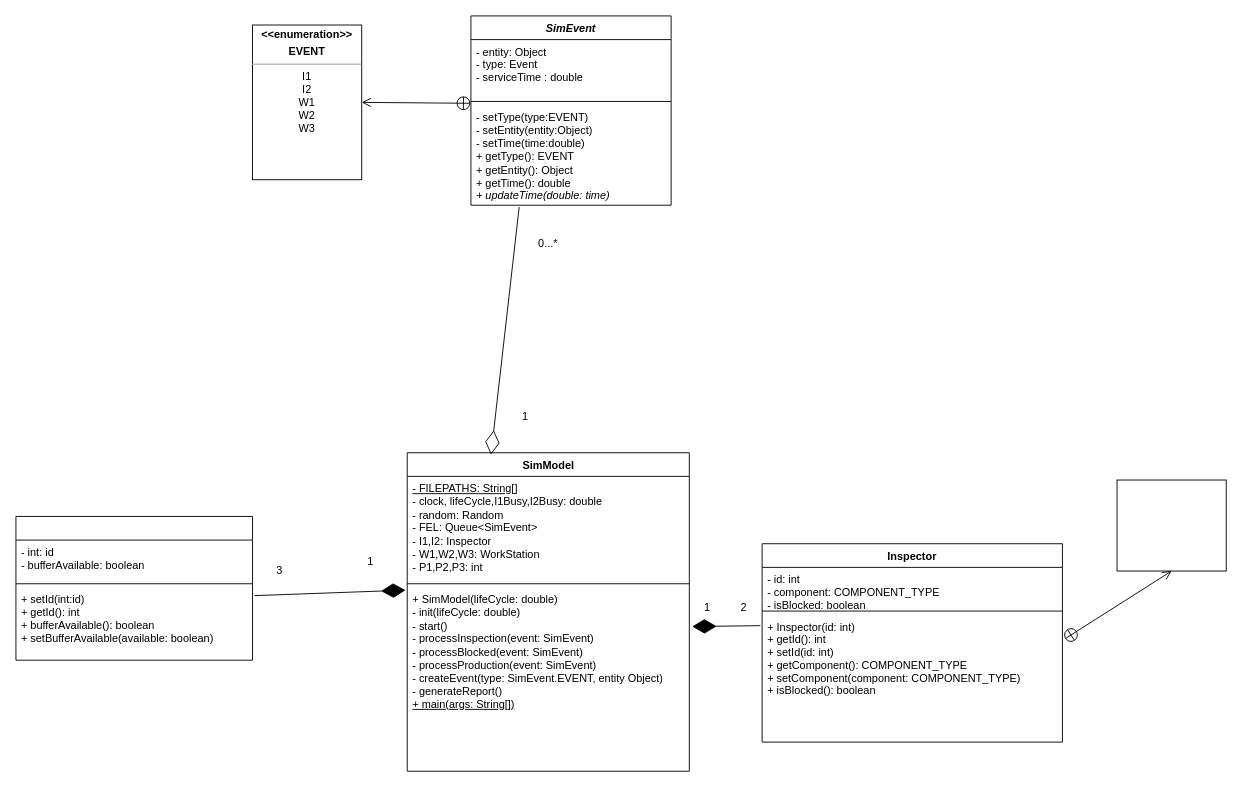
The diagram is 1242 pixels wide and 790 high, and some of its shapes have lost their labels. Each missing label, with the box of its shape:
<<enumeration>> COMPONENT_TYPE C1 C2 C3: (1116, 479, 1226, 571)
WorkStation: (15, 516, 253, 660)
